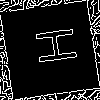H: (24, 25, 77, 67)
